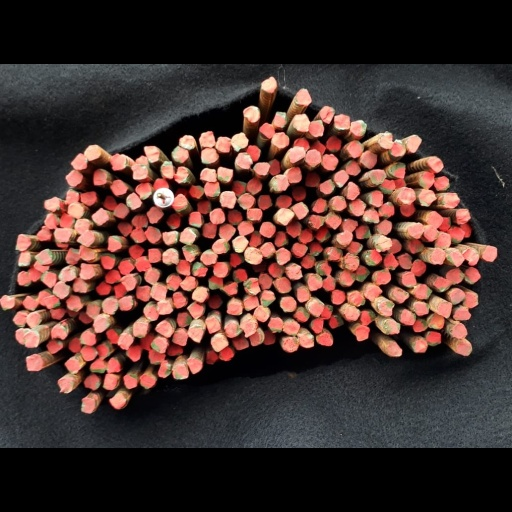dipstick: (243, 105, 261, 123), (260, 76, 277, 95), (231, 132, 248, 151), (219, 191, 236, 210), (240, 318, 257, 337), (373, 235, 393, 251), (235, 152, 252, 170), (76, 230, 94, 247), (57, 376, 75, 393), (171, 193, 188, 211), (147, 206, 164, 224), (188, 326, 205, 344), (187, 302, 204, 320), (182, 245, 200, 262), (245, 247, 262, 265), (462, 247, 479, 265), (447, 250, 464, 268), (447, 226, 465, 243), (296, 88, 312, 107), (79, 245, 98, 261), (26, 353, 42, 372), (143, 302, 159, 321), (346, 140, 363, 157), (216, 166, 233, 183), (172, 146, 189, 163), (237, 192, 254, 209), (84, 144, 101, 161), (109, 153, 126, 170), (70, 153, 87, 170), (92, 208, 109, 225), (150, 285, 167, 302), (186, 358, 203, 375), (277, 208, 294, 225), (383, 318, 400, 335), (414, 283, 431, 300), (447, 267, 464, 284), (464, 267, 481, 284), (443, 192, 460, 209), (419, 189, 436, 206), (398, 187, 415, 204), (361, 151, 377, 169), (305, 149, 321, 167), (201, 148, 219, 164), (246, 177, 262, 195), (65, 170, 83, 186), (136, 182, 152, 200), (145, 226, 161, 244), (224, 321, 242, 337), (430, 247, 446, 265), (426, 156, 444, 172), (294, 114, 309, 133), (344, 252, 359, 271), (407, 134, 422, 153), (325, 135, 341, 152), (334, 113, 350, 130), (350, 120, 367, 136), (322, 154, 338, 171), (285, 167, 302, 183), (271, 174, 288, 190), (26, 312, 42, 329), (15, 328, 31, 345), (64, 358, 81, 374), (80, 345, 97, 361), (156, 321, 173, 337), (102, 298, 118, 315), (110, 180, 127, 196), (180, 228, 196, 245), (172, 364, 189, 380), (162, 248, 178, 265), (211, 336, 228, 352), (244, 278, 260, 295), (200, 249, 217, 265), (209, 207, 225, 224), (274, 277, 291, 293), (279, 296, 296, 312), (286, 264, 303, 280), (365, 284, 382, 300), (369, 169, 386, 185), (365, 250, 382, 266), (428, 313, 444, 330), (400, 308, 416, 325), (378, 300, 395, 316), (426, 211, 442, 228), (419, 172, 435, 189), (389, 162, 406, 178), (390, 140, 406, 157), (378, 131, 393, 149), (334, 169, 349, 187), (200, 130, 215, 148), (130, 164, 148, 179), (281, 337, 299, 352), (391, 288, 409, 303), (434, 276, 452, 291), (289, 147, 305, 163), (231, 180, 247, 196), (143, 146, 159, 162), (15, 234, 31, 250), (84, 374, 100, 390), (126, 193, 142, 209), (135, 286, 151, 302), (144, 268, 160, 284), (219, 224, 235, 240), (283, 320, 299, 336), (298, 332, 314, 348), (315, 259, 331, 275), (325, 213, 341, 229), (452, 323, 468, 339), (423, 225, 439, 241), (379, 201, 395, 217), (272, 132, 289, 147), (309, 120, 324, 137), (200, 168, 217, 183), (80, 191, 97, 206), (65, 247, 80, 264), (13, 311, 28, 328), (24, 331, 39, 348), (51, 324, 68, 339), (79, 331, 96, 346), (148, 349, 165, 364), (117, 333, 132, 350), (120, 275, 137, 290), (172, 292, 187, 309), (191, 261, 208, 276), (205, 316, 220, 333), (202, 222, 217, 239), (293, 202, 308, 219), (339, 270, 356, 285), (348, 290, 365, 305), (348, 200, 365, 215), (449, 288, 464, 305), (482, 245, 497, 262), (411, 259, 426, 276), (374, 269, 391, 284), (384, 253, 399, 270), (407, 238, 424, 253), (434, 233, 451, 248), (407, 223, 424, 238), (455, 208, 470, 225), (320, 105, 334, 123), (53, 228, 71, 242), (150, 338, 168, 352), (250, 328, 264, 346), (464, 291, 478, 309), (260, 123, 275, 139), (216, 137, 231, 153), (205, 181, 220, 197), (44, 196, 60, 211), (68, 203, 84, 218), (36, 249, 52, 264), (41, 271, 56, 287), (80, 264, 96, 279), (66, 295, 81, 311), (80, 397, 95, 413), (126, 345, 141, 361), (132, 322, 147, 338), (105, 269, 121, 284), (100, 253, 115, 269), (107, 236, 122, 252), (132, 213, 148, 228), (166, 276, 182, 291), (176, 312, 192, 327), (192, 287, 208, 302), (218, 346, 234, 361), (233, 236, 248, 252), (257, 195, 273, 210), (320, 179, 335, 195), (312, 197, 327, 213), (260, 222, 276, 237), (268, 317, 283, 333), (309, 301, 324, 317), (286, 221, 301, 237), (307, 274, 322, 290), (344, 305, 360, 320), (360, 310, 376, 325), (397, 253, 412, 269), (376, 219, 392, 234), (273, 110, 287, 127), (179, 135, 196, 149), (174, 166, 188, 183), (92, 169, 106, 186), (54, 282, 68, 299), (74, 219, 91, 233), (46, 340, 63, 354), (109, 395, 126, 409), (103, 373, 117, 390), (86, 301, 100, 318), (188, 211, 202, 228), (237, 221, 254, 235), (276, 248, 290, 265), (258, 272, 272, 289), (231, 337, 249, 350), (453, 307, 471, 320), (60, 213, 75, 228), (0, 295, 15, 310), (93, 317, 108, 332), (114, 203, 129, 218), (117, 221, 132, 236), (131, 228, 146, 243), (181, 276, 196, 291), (172, 330, 187, 345), (243, 295, 258, 310), (254, 307, 269, 322), (213, 262, 228, 277), (213, 238, 228, 253), (305, 172, 320, 187), (331, 196, 346, 211), (426, 331, 441, 346), (435, 176, 450, 191), (346, 160, 360, 176), (253, 161, 269, 175), (246, 145, 260, 161), (59, 267, 75, 281), (72, 278, 88, 292), (90, 359, 106, 373), (96, 342, 110, 358), (107, 328, 121, 344), (135, 257, 151, 271), (176, 260, 190, 276), (261, 291, 275, 307), (317, 332, 333, 346), (336, 231, 352, 245), (354, 267, 370, 281), (369, 190, 383, 206), (412, 318, 428, 332), (413, 301, 429, 315), (438, 302, 452, 318), (402, 271, 416, 287), (388, 238, 402, 254), (139, 375, 156, 388), (158, 361, 171, 378), (325, 247, 342, 260), (44, 213, 58, 228), (23, 295, 37, 310), (118, 296, 132, 311), (189, 185, 204, 199), (166, 214, 180, 229), (129, 245, 144, 259), (208, 295, 223, 309), (196, 200, 211, 214), (228, 210, 242, 225), (292, 186, 306, 201), (309, 215, 324, 229), (269, 263, 284, 277), (232, 268, 247, 282), (294, 307, 309, 321), (310, 318, 324, 333), (292, 243, 307, 257), (331, 289, 345, 304), (315, 228, 330, 242), (356, 225, 371, 239), (364, 209, 379, 223), (380, 179, 394, 194), (157, 301, 173, 314), (162, 231, 178, 244), (118, 261, 134, 274), (226, 302, 242, 315), (276, 195, 292, 208), (300, 228, 313, 244), (386, 344, 402, 357), (292, 137, 309, 149), (161, 161, 173, 178), (348, 181, 359, 199), (17, 272, 31, 286), (123, 375, 137, 389), (330, 315, 344, 329), (66, 189, 79, 204), (107, 358, 120, 373), (154, 178, 169, 191), (148, 248, 161, 263), (208, 276, 223, 289), (229, 253, 244, 266), (261, 242, 274, 257), (355, 327, 370, 340), (457, 342, 472, 355), (400, 204, 415, 217), (167, 344, 183, 356), (342, 219, 358, 231), (96, 282, 110, 295), (103, 196, 117, 209), (249, 232, 262, 246), (262, 330, 275, 344), (301, 255, 315, 268), (309, 242, 323, 255), (413, 339, 427, 352), (45, 296, 60, 308), (69, 337, 81, 352), (247, 209, 262, 221), (297, 287, 309, 302), (275, 231, 287, 246), (348, 241, 363, 253), (269, 158, 280, 174), (37, 228, 51, 240), (114, 284, 126, 298), (206, 351, 218, 365), (323, 276, 335, 290), (50, 309, 65, 320), (460, 223, 471, 238), (440, 216, 451, 231), (33, 262, 49, 272), (18, 253, 30, 266), (224, 282, 237, 294), (79, 313, 93, 324), (321, 305, 332, 319), (28, 269, 40, 281), (38, 292, 50, 304), (393, 178, 406, 187)
